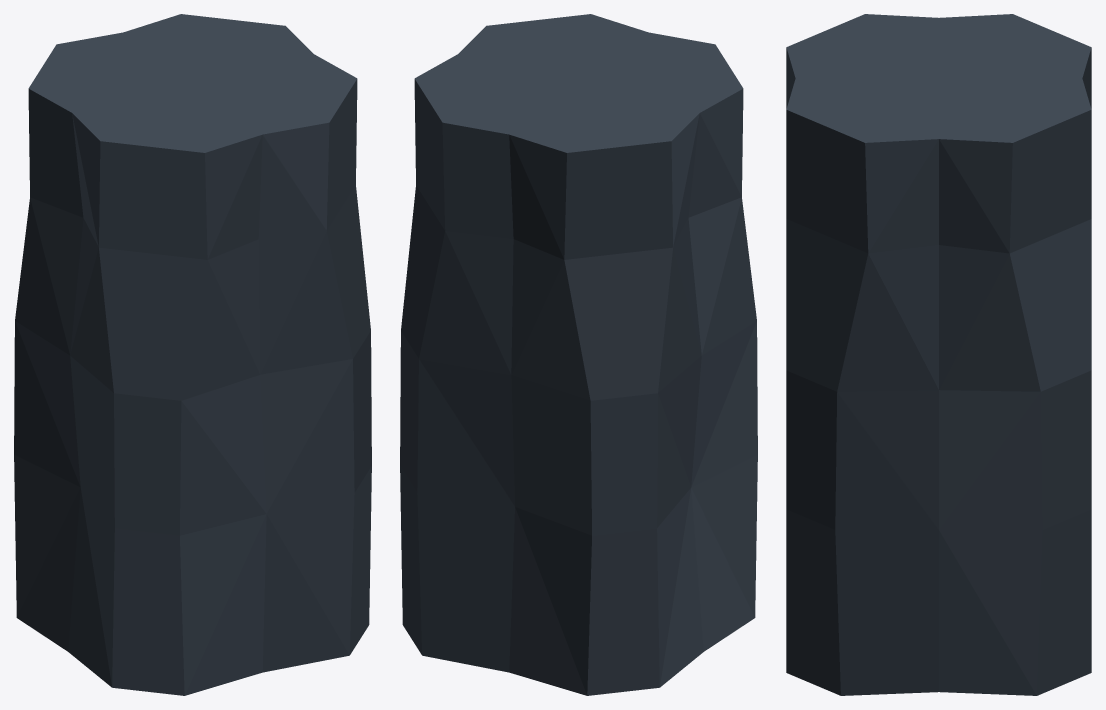
File: Section_2.glb
3 renders of one model, left to right at view 1: azimuth 30°, elevation 25°; view 2: azimuth 150°, elevation 25°; view 3: azimuth 270°, elevation 25°, orthographic. The views are drawn at different scales.
Parts seen in each view (by area): view 1: Section; view 2: Section; view 3: Section.
Part boxes in pixels (x1,y1,x2,y2): Section: (14, 14, 371, 695); Section: (400, 14, 757, 695); Section: (786, 14, 1091, 695).
Bounding box in the file's own units: 2.2 × 4.4 × 2.2.
